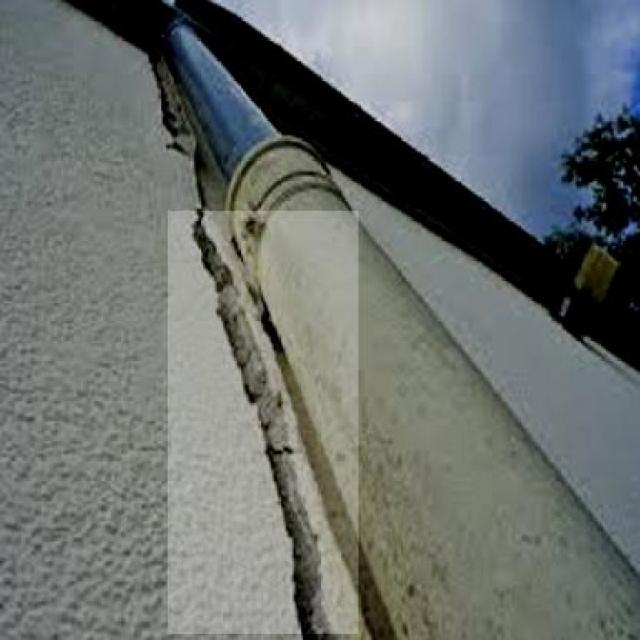Crack: (172, 221, 356, 640)
